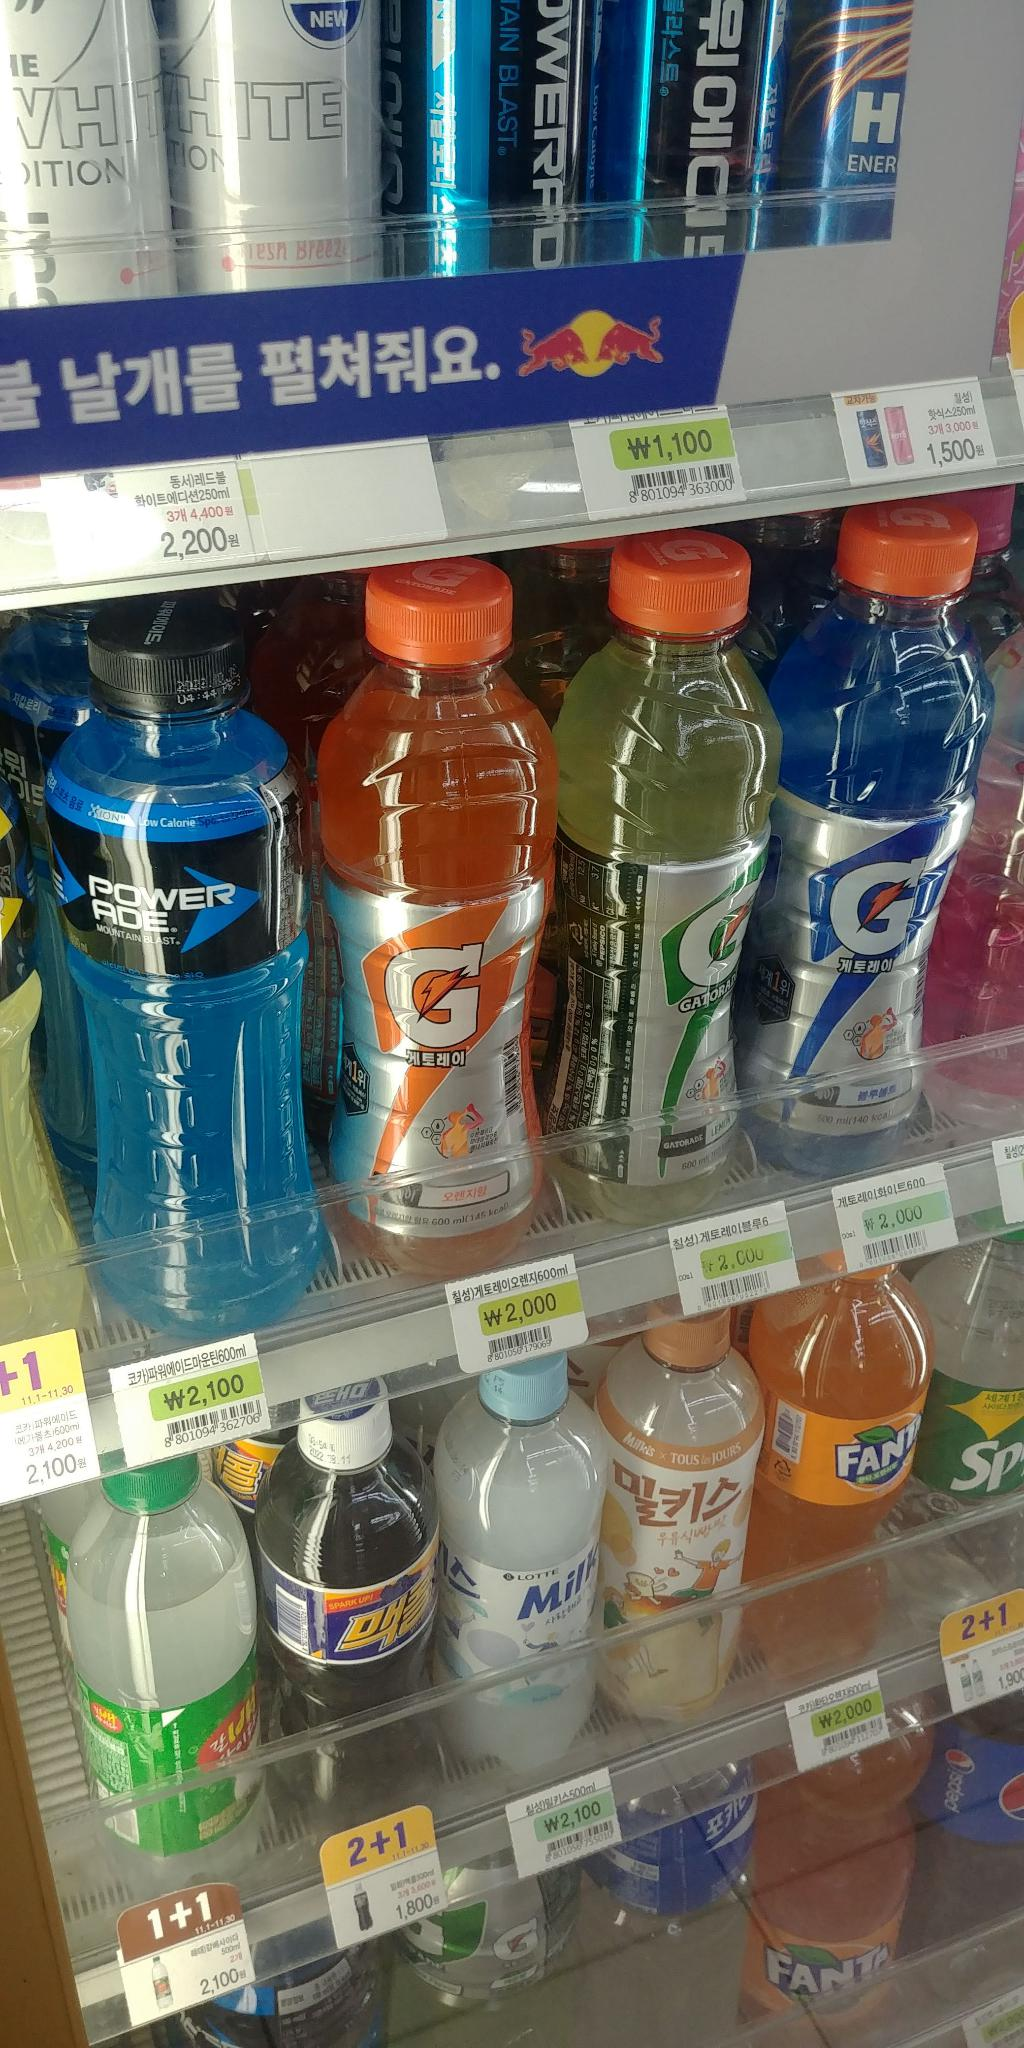gatorade_lemon: (564, 525, 772, 1236)
powerade_mountainblast: (40, 596, 334, 1320)
